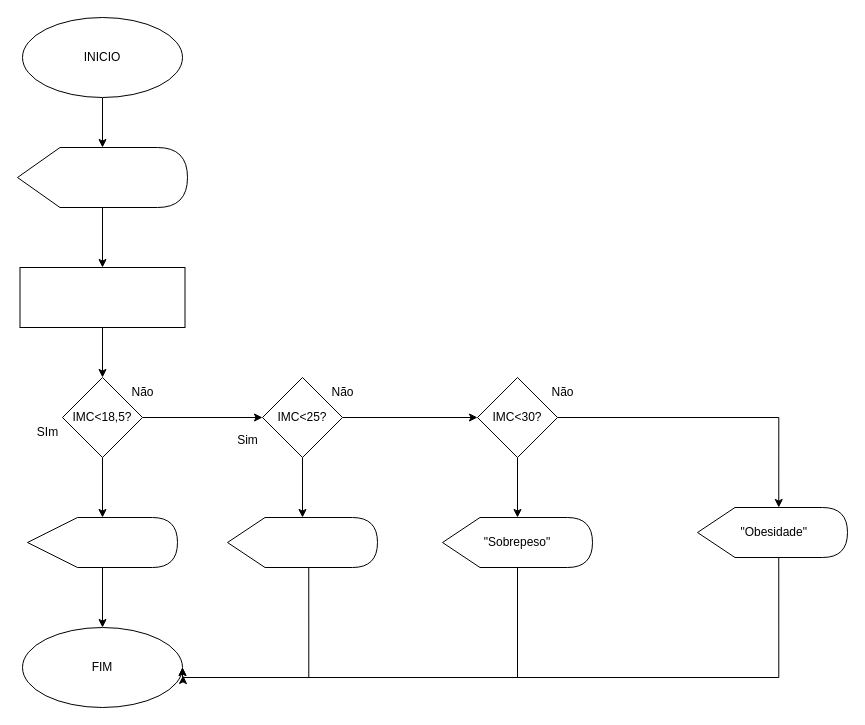
Image size: 865x725. Some labels were removed from this diagram. Each missing label, with the centre of its shape:
"Abaixo do peso": point (102, 542)
"Peso Normal": point (302, 542)
Calcular IMC= peso/(altura x altura): point (102, 297)
Ler peso(kg) e altura(m): point (102, 177)
